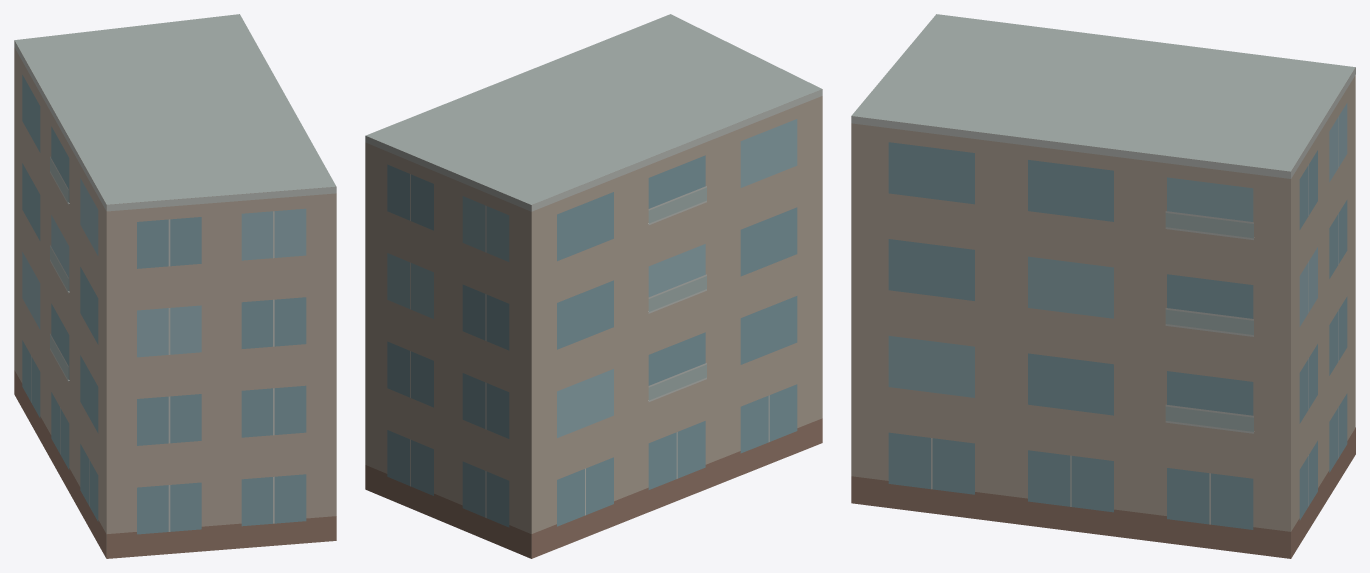
The model's file is survey-upis-32759672.glb.
3 views of the same model, side by side, from view 1: azimuth 30°, elevation 25°; view 2: azimuth 150°, elevation 25°; view 3: azimuth 270°, elevation 25° (orthographic). The views are drawn at different scales.
Visible parts, largest first — view 1: survey-upis-32759672.tmp; view 2: survey-upis-32759672.tmp; view 3: survey-upis-32759672.tmp.
Boxes of the visible parts, x1,y1,x2,y2 form: survey-upis-32759672.tmp: (14, 14, 336, 558); survey-upis-32759672.tmp: (365, 14, 822, 558); survey-upis-32759672.tmp: (851, 14, 1355, 558).
Size of the model in its own units: 11.18 by 12.8 by 15.12.
